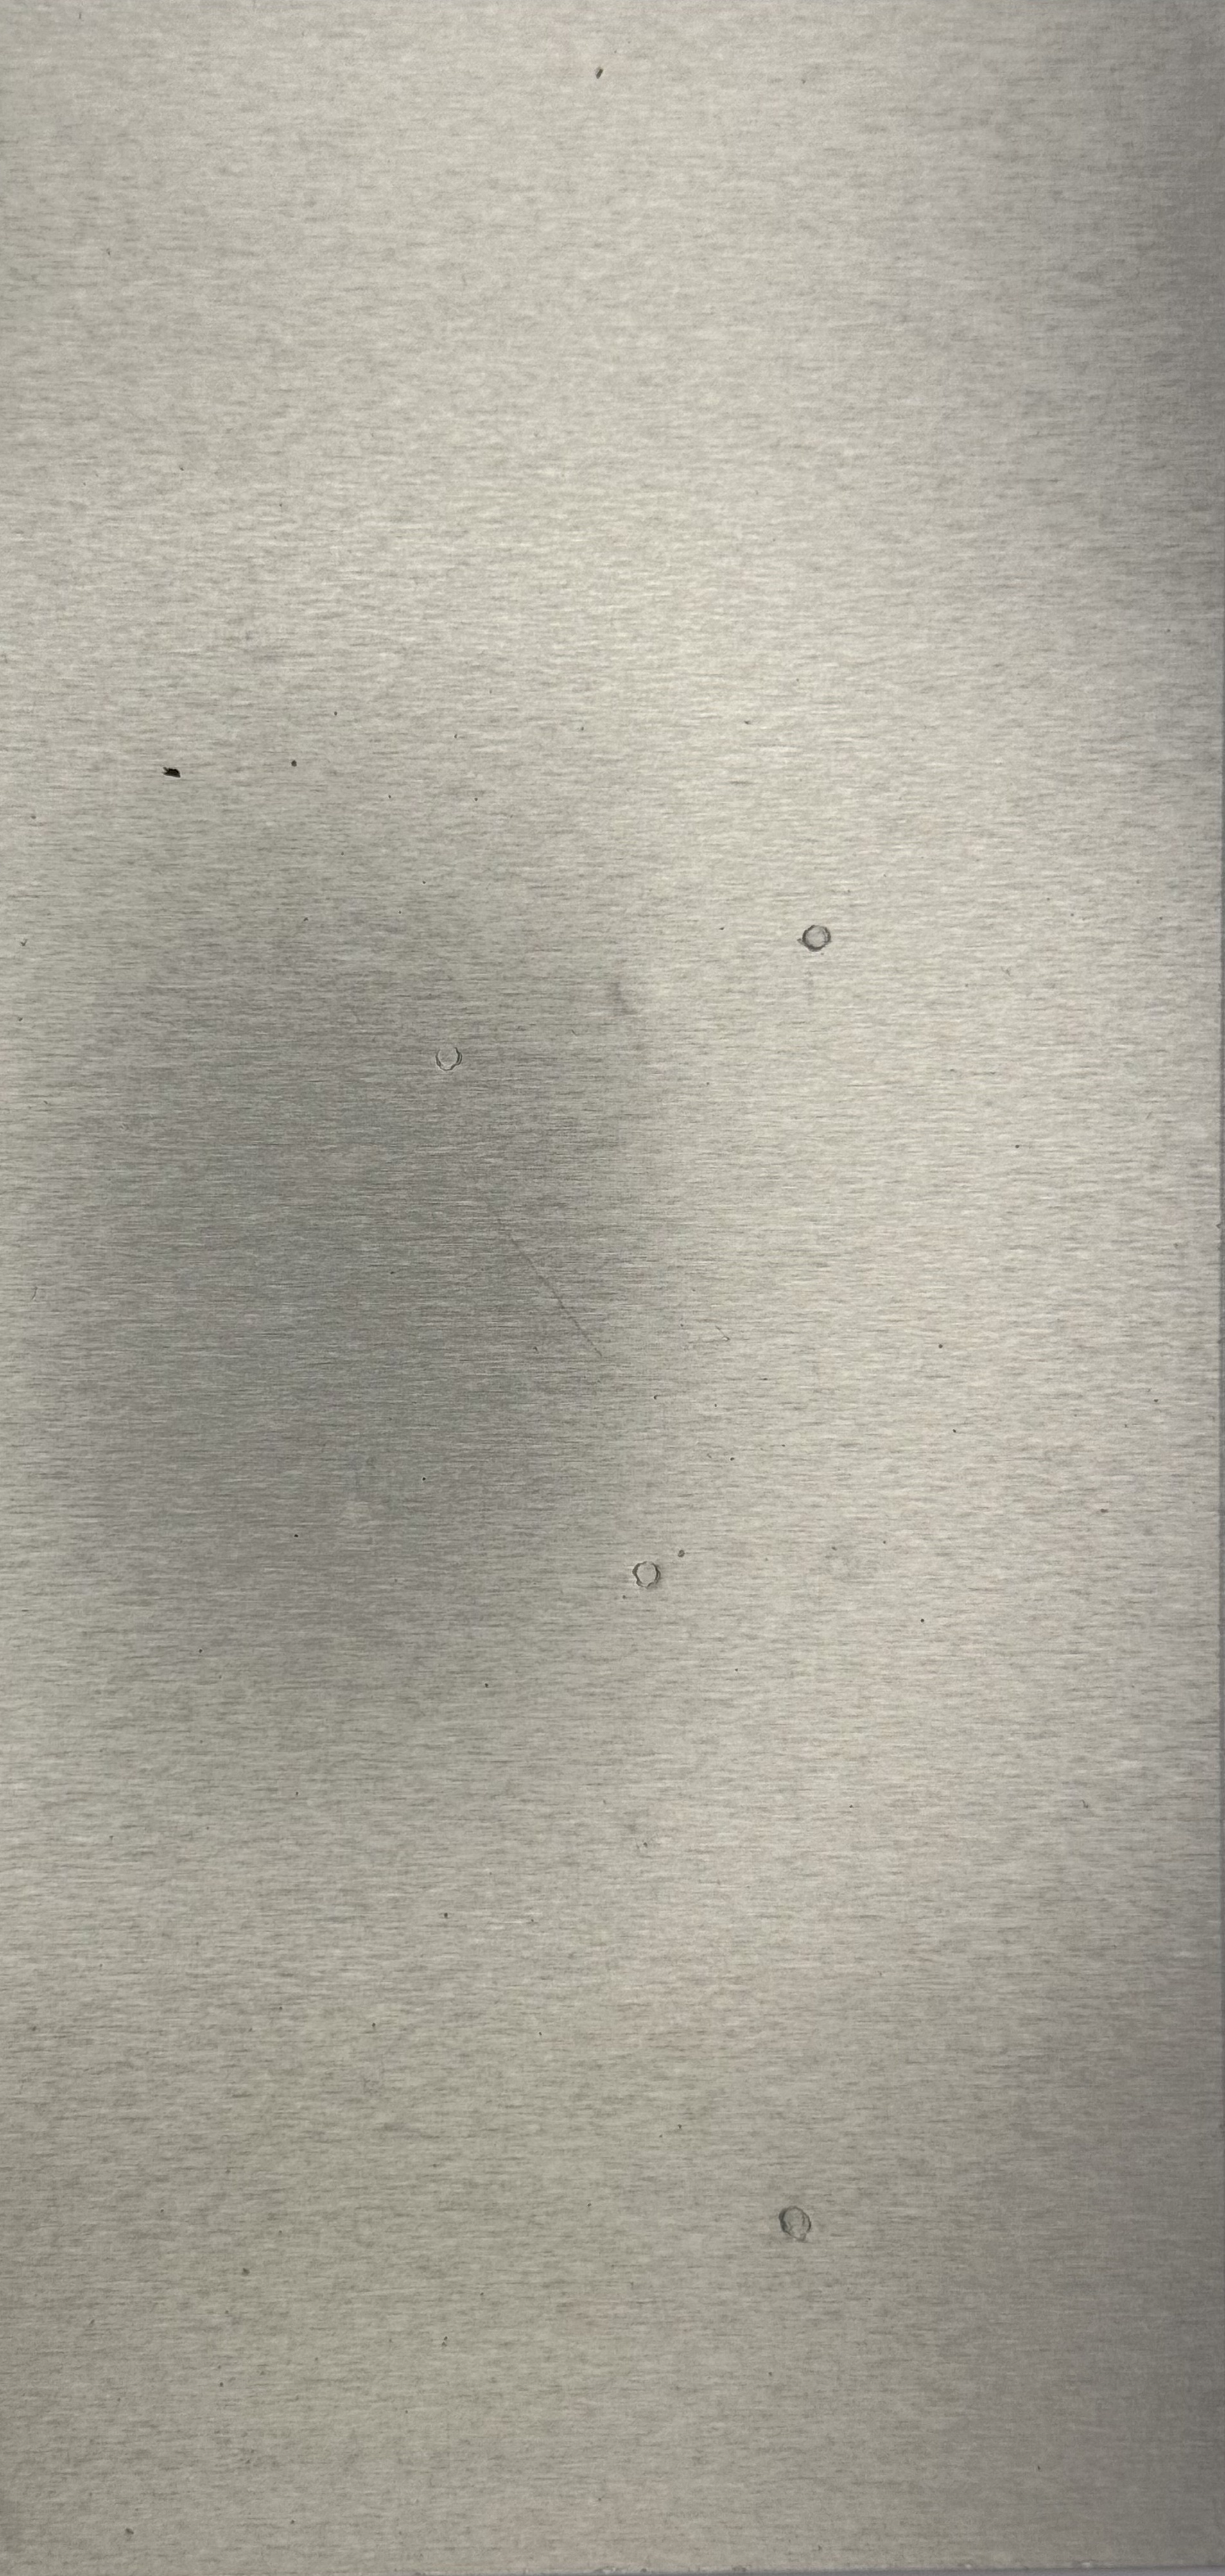Delle: (314, 1452, 412, 1562), (785, 915, 851, 973), (768, 2196, 834, 2252), (617, 1548, 675, 1598), (422, 1037, 476, 1083)
